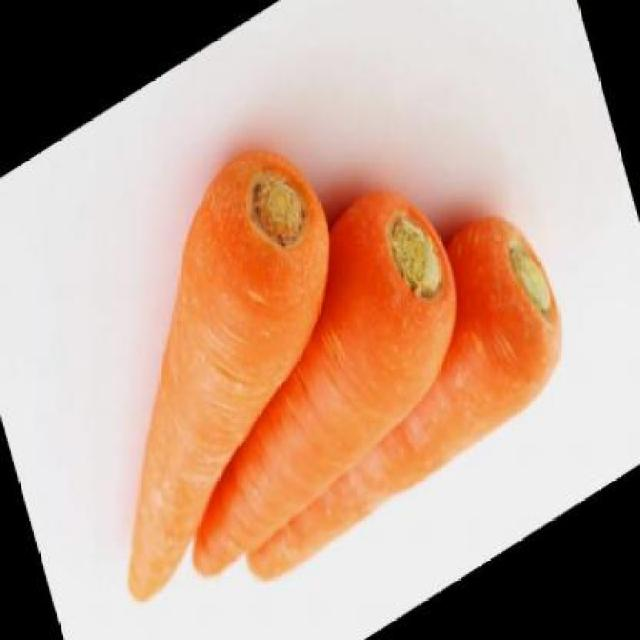carrot: (246, 188, 558, 594), (197, 195, 453, 592), (123, 136, 330, 619)
